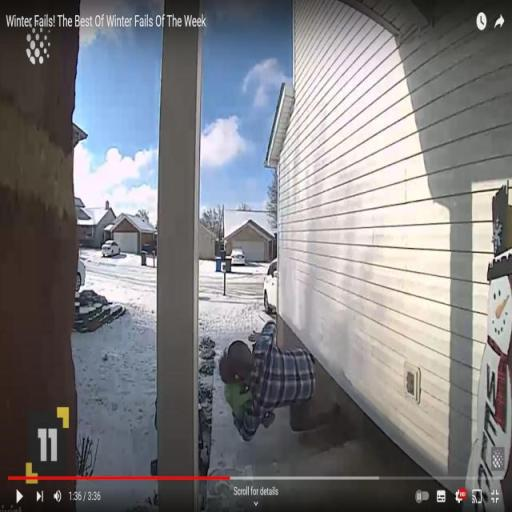Fall: (217, 315, 343, 444)
